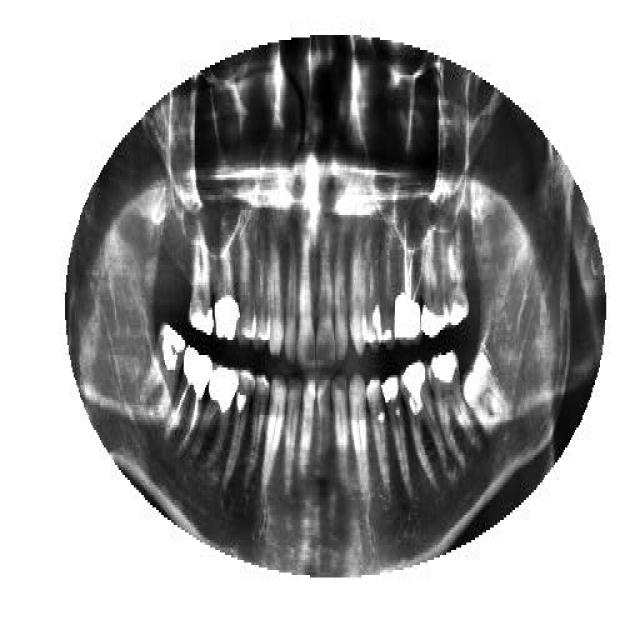Fillings: (402, 358, 447, 488), (428, 348, 478, 462), (192, 362, 238, 468), (144, 322, 185, 418), (381, 375, 410, 500), (422, 218, 446, 338), (214, 238, 241, 342), (190, 230, 215, 335), (446, 228, 469, 328)
Impacted Tooth: (460, 348, 508, 440)
Implant: (170, 345, 211, 455), (391, 217, 421, 345)
